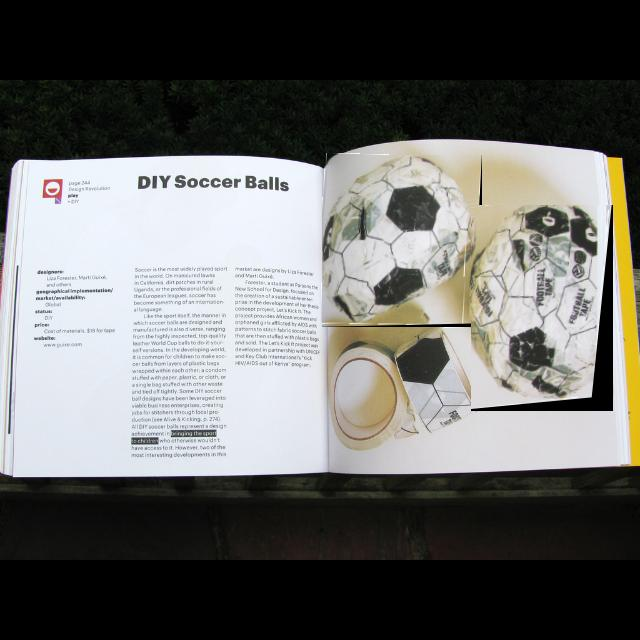Football: (471, 205, 613, 411), (322, 155, 482, 327)
